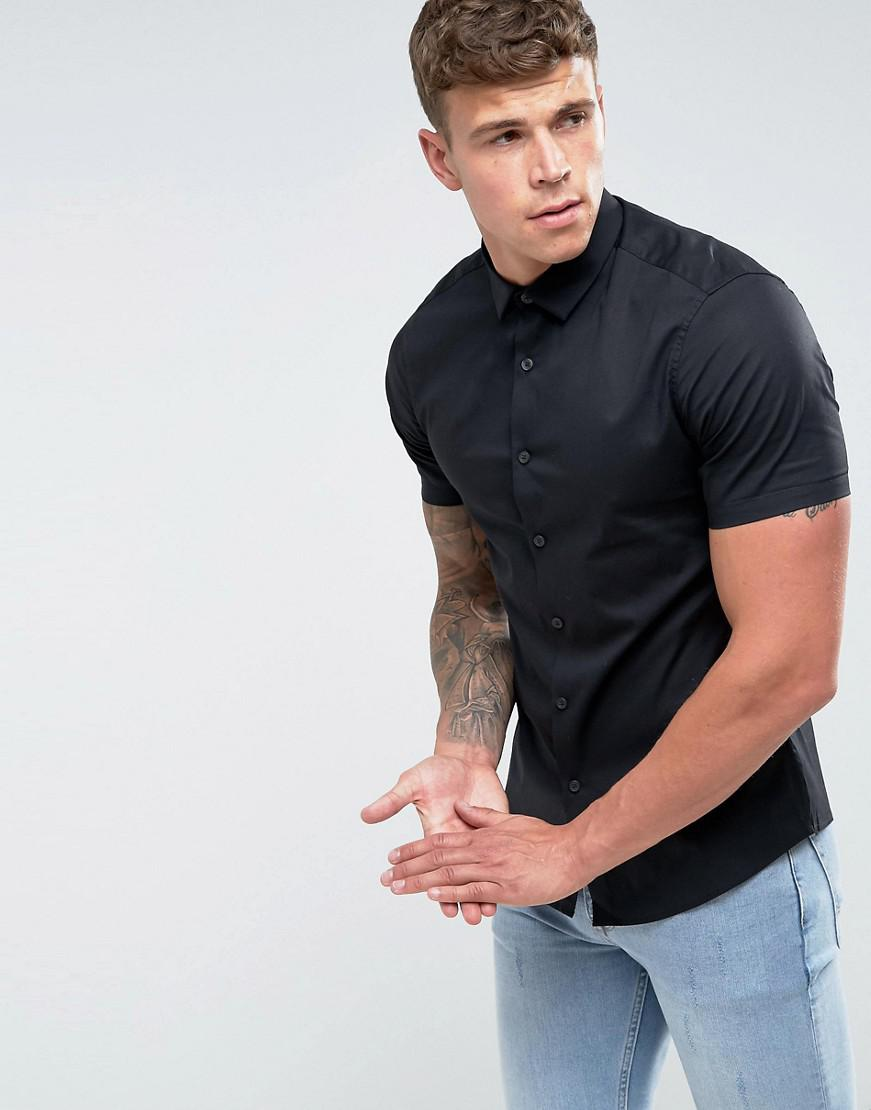teeshirt: (369, 201, 862, 868)
